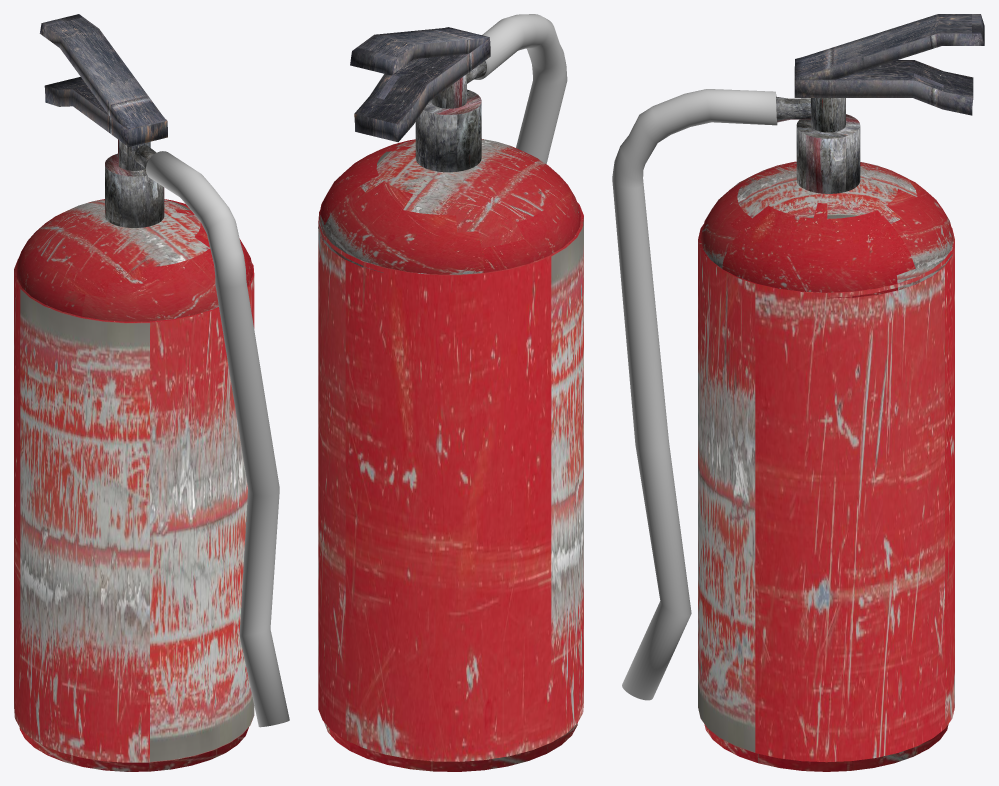
File: Fire ex.fbx
3 renders of one model, left to right at view 1: azimuth 30°, elevation 25°; view 2: azimuth 150°, elevation 25°; view 3: azimuth 270°, elevation 25°, orthographic. The views are drawn at different scales.
Parts seen in each view (by area): view 1: Cylinder, Cylinder.004, Sphere, Plane, Cylinder.001, Cylinder.002; view 2: Cylinder, Sphere, Plane, Cylinder.004, Cylinder.001, Cylinder.002; view 3: Cylinder, Sphere, Cylinder.004, Plane, Cylinder.001, Cylinder.002, Cylinder.003.
Boxes of the visible parts, <box> form: Cylinder: <box>14,259,254,771</box>; Cylinder.004: <box>146,151,289,727</box>; Sphere: <box>16,199,252,321</box>; Plane: <box>39,14,167,146</box>; Cylinder.001: <box>105,153,164,227</box>; Cylinder.002: <box>118,139,150,170</box>; Cylinder: <box>318,202,583,771</box>; Sphere: <box>318,139,580,274</box>; Plane: <box>350,27,490,142</box>; Cylinder.004: <box>474,14,567,163</box>; Cylinder.001: <box>415,89,481,172</box>; Cylinder.002: <box>431,74,466,108</box>; Cylinder: <box>698,224,954,771</box>; Sphere: <box>700,161,953,298</box>; Cylinder.004: <box>612,89,777,700</box>; Plane: <box>794,14,984,115</box>; Cylinder.001: <box>796,114,860,193</box>; Cylinder.002: <box>811,98,845,132</box>; Cylinder.003: <box>776,96,811,122</box>.
Bounding box in the file's own units: 54.29 × 162 × 78.8.
